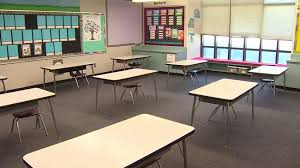desk: (20, 118, 193, 167), (188, 74, 258, 142), (0, 85, 57, 134), (91, 68, 158, 106), (38, 63, 98, 89), (248, 63, 283, 97), (165, 58, 207, 82), (110, 52, 149, 67)
